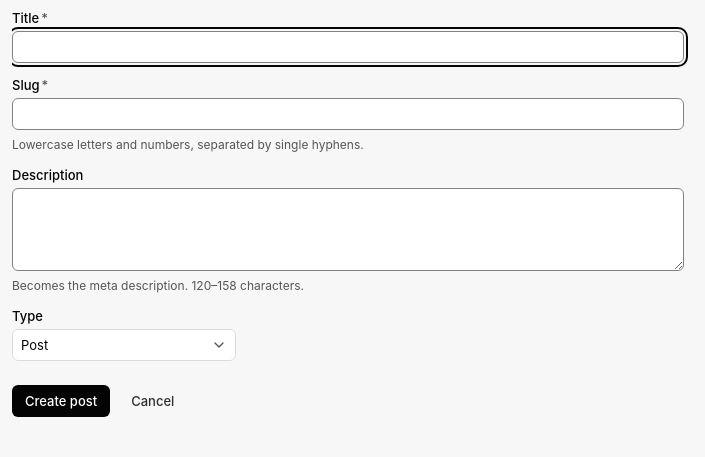
Test: NewDocumentForm › the slug › flags an invalid slug on blur, before the author reaches the button
This screenshot has width=705, height=457.
In the field labelled "Slug*": point(348, 114) [12,98,684,130], type "Not A Slug"
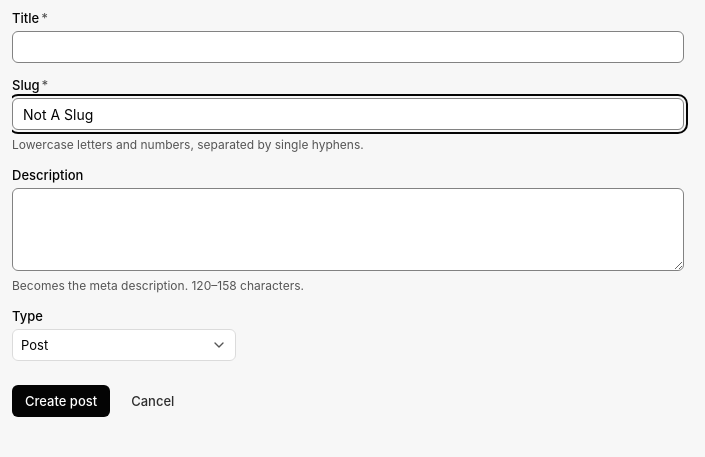
Click the field labelled "Title*": point(348, 47) [12,31,684,63]
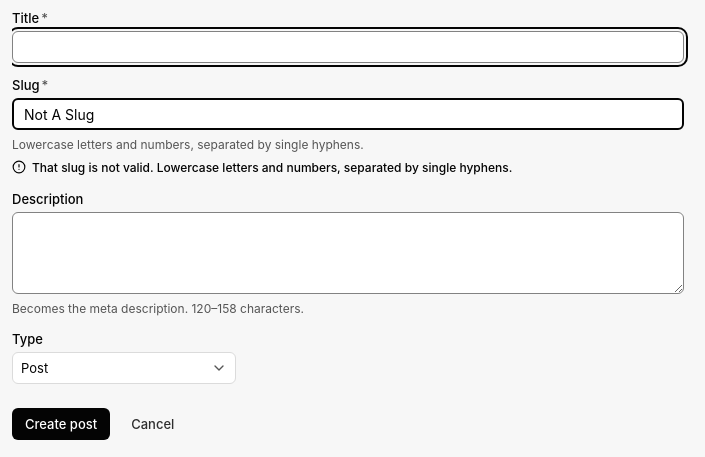
Expected: the text "That slug is not valid" is shown, [32,160,512,175]
